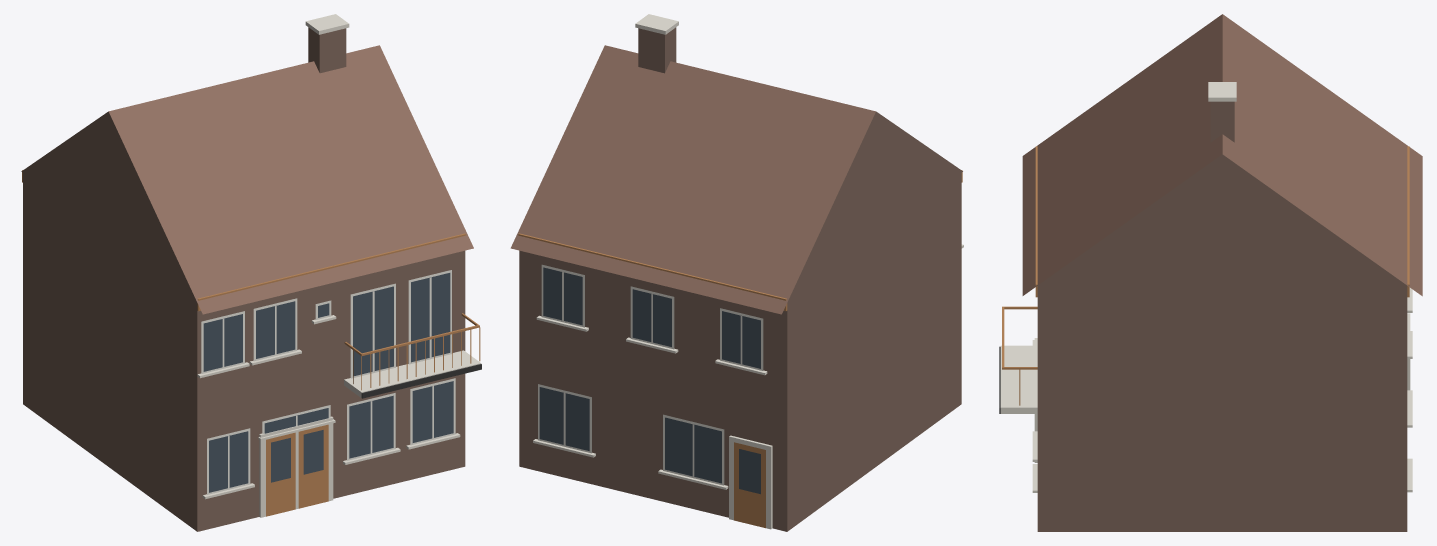
File: oo-ta-side__orange__2__gable__long__solid__mirror.glb
3 views of the same model, side by side, from view 1: azimuth 30°, elevation 25°; view 2: azimuth 150°, elevation 25°; view 3: azimuth 270°, elevation 25° (orthographic). The views are drawn at different scales.
Visible parts, largest first — view 1: oo-ta-side__orange__2__gable__long__solid__mirror; view 2: oo-ta-side__orange__2__gable__long__solid__mirror; view 3: oo-ta-side__orange__2__gable__long__solid__mirror.
Part boxes in pixels (left/top/right/bottom): oo-ta-side__orange__2__gable__long__solid__mirror: left=21, top=14, right=481, bottom=531; oo-ta-side__orange__2__gable__long__solid__mirror: left=510, top=14, right=963, bottom=531; oo-ta-side__orange__2__gable__long__solid__mirror: left=999, top=14, right=1422, bottom=531.
Size of the model in its own units: 7.62 by 10.53 by 9.71.
